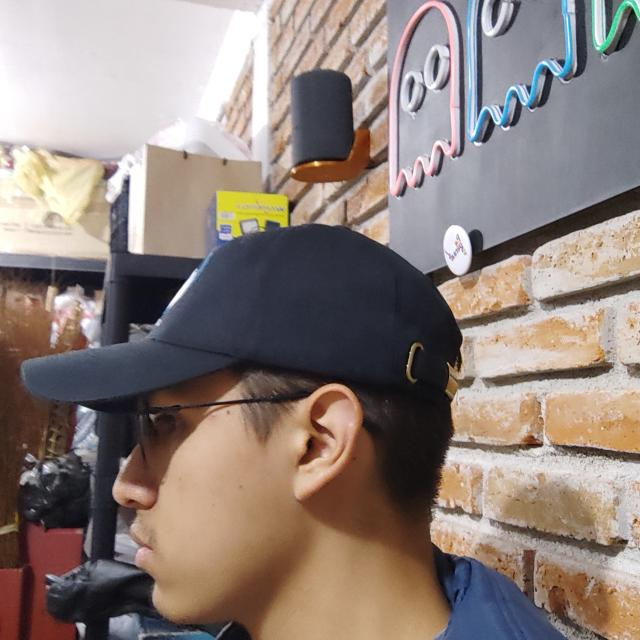ear: (292, 383, 363, 499)
